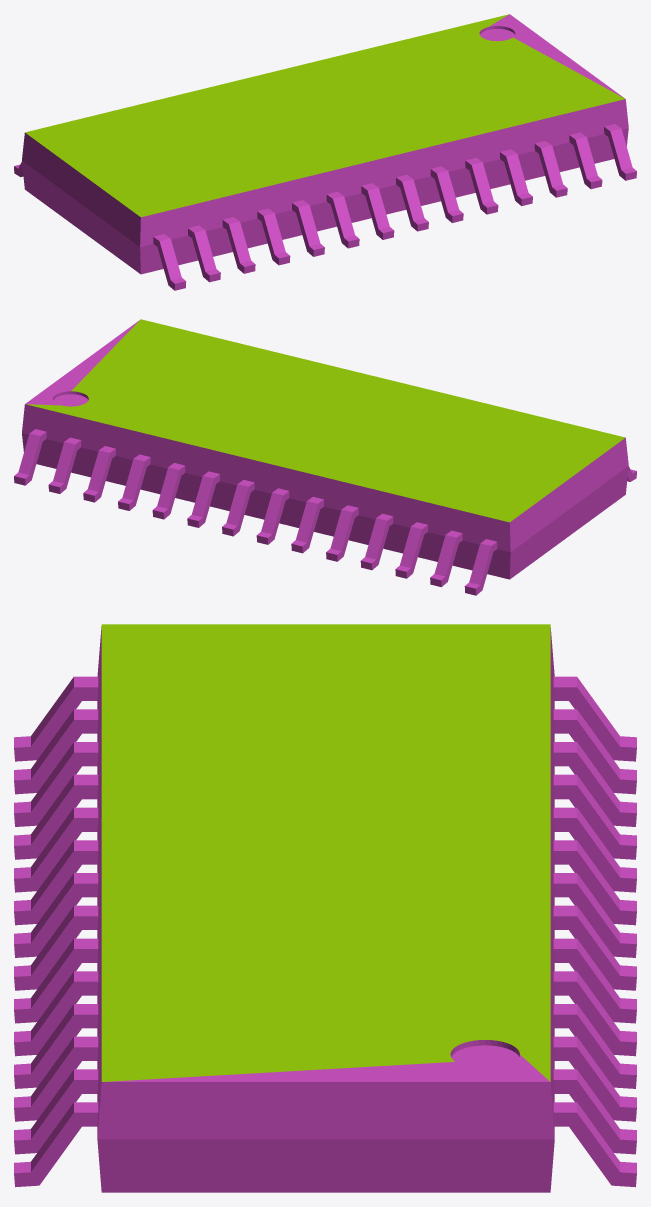
3 views of the same model, one above another, from view 1: azimuth 30°, elevation 25°; view 2: azimuth 150°, elevation 25°; view 3: azimuth 270°, elevation 25° (orthographic). The views are drawn at different scales.
Parts seen in each view (by area): view 1: SOIC-28; view 2: SOIC-28; view 3: SOIC-28.
Boxes of the visible parts, x1,y1,x2,y2 form: SOIC-28: (14,14,636,290); SOIC-28: (14,319,636,595); SOIC-28: (14,624,636,1192).
Size of the model in its own units: 17.9 by 10.21 by 2.1.
